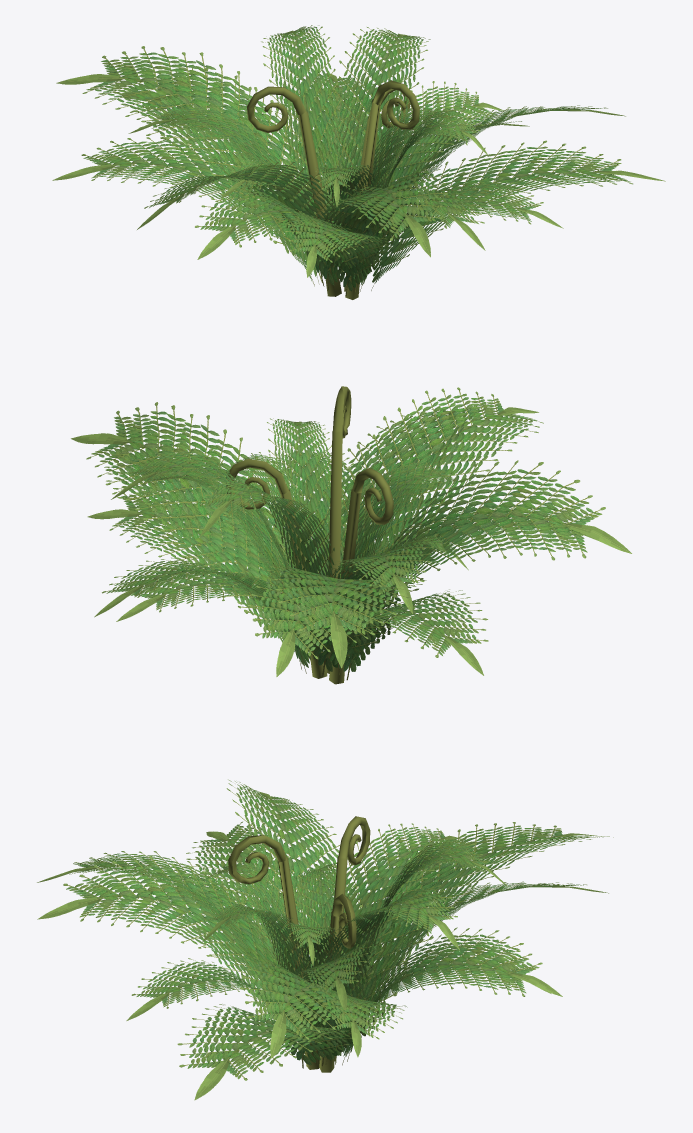
File: fern.glb
The picture shows the model from 3 angles, top to bottom: view 1: azimuth 30°, elevation 25°; view 2: azimuth 150°, elevation 25°; view 3: azimuth 270°, elevation 25°; orthographic projection. The views are drawn at different scales.
Visible parts, largest first — view 1: leaflets; view 2: leaflets; view 3: leaflets.
Part boxes in pixels (bbox=[...]): leaflets: bbox=[52, 25, 665, 299]; leaflets: bbox=[71, 386, 631, 684]; leaflets: bbox=[37, 779, 613, 1100].
Bounding box in the file's own units: 2.4 × 0.9793 × 2.38.
Materials: 1 (1 with a texture image).
